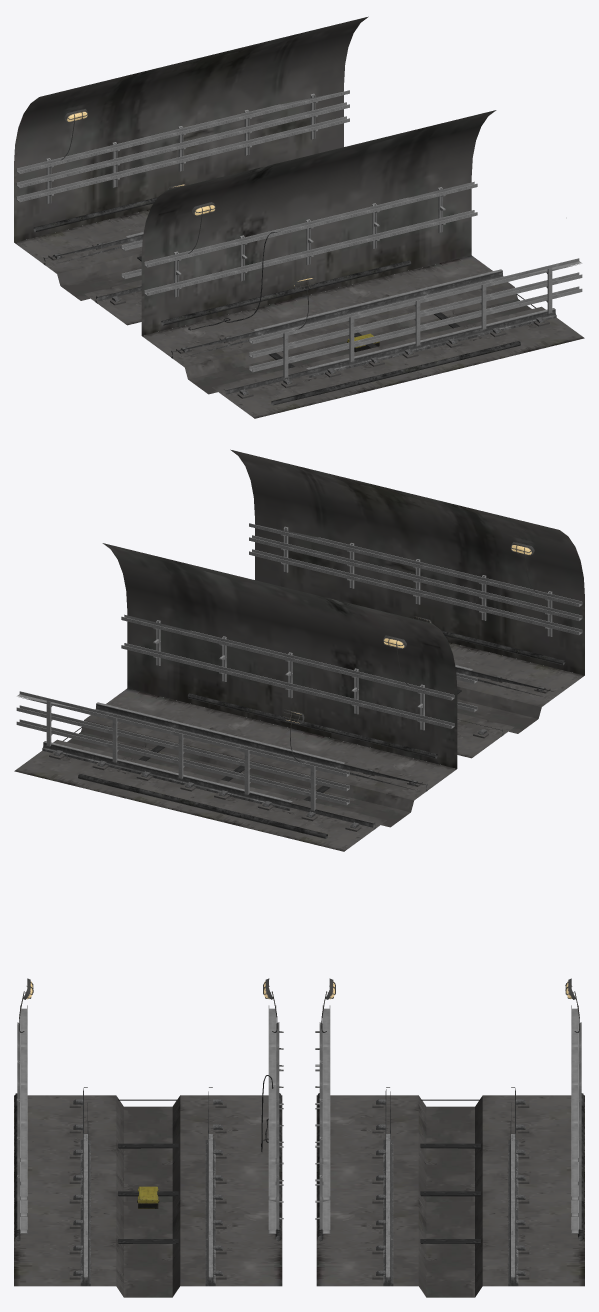
The model's file is tunnel.glb.
3 views of the same model, one above another, from view 1: azimuth 30°, elevation 25°; view 2: azimuth 150°, elevation 25°; view 3: azimuth 270°, elevation 25° (orthographic). The views are drawn at different scales.
Visible parts, largest first — view 1: TunelModular_LP.001_ParedTunel_0.002, SueloViasTunel_LP.002_SueloVias_0.002, PortaCables_LP_SujeccionesCables_0.002, SueloViasTunel_LP.003_SueloVias_0.001, Vias_LP_Vias_0.001, PortaCables_LP.001_SujeccionesCables_0.001, TuberiaViaDetallada_LP.001_TuberiaViaDetallada_0.002, BaseLuzCorta_LP_LuzTunelCorta_0.001, CableLateralViasBarra_LP.001_CableTexturePack_0.002; view 2: TunelModular_LP.001_ParedTunel_0.002, SueloViasTunel_LP.002_SueloVias_0.002, PortaCables_LP_SujeccionesCables_0.002, SueloViasTunel_LP.003_SueloVias_0.001, Vias_LP_Vias_0.001, PortaCables_LP.001_SujeccionesCables_0.001, TuberiaViaDetallada_LP.001_TuberiaViaDetallada_0.002, BaseLuzCorta_LP_LuzTunelCorta_0.001; view 3: SueloViasTunel_LP.003_SueloVias_0.001, SueloViasTunel_LP.002_SueloVias_0.002, Vias_LP_Vias_0.001, PortaCables_LP.001_SujeccionesCables_0.001, PortaCables_LP_SujeccionesCables_0.002, CableLateralViasBarra_LP.001_CableTexturePack_0.002, TuberiaViaDetallada_LP.001_TuberiaViaDetallada_0.002, BaseLuzCorta_LP_LuzTunelCorta_0.001.
Part boxes in pixels (box(x1,y1,x2,y2)): TunelModular_LP.001_ParedTunel_0.002: box(14, 16, 496, 335); SueloViasTunel_LP.002_SueloVias_0.002: box(14, 209, 419, 418); PortaCables_LP_SujeccionesCables_0.002: box(16, 90, 582, 377); SueloViasTunel_LP.003_SueloVias_0.001: box(307, 255, 584, 378); Vias_LP_Vias_0.001: box(43, 232, 556, 398); PortaCables_LP.001_SujeccionesCables_0.001: box(121, 181, 477, 297); TuberiaViaDetallada_LP.001_TuberiaViaDetallada_0.002: box(33, 197, 520, 405); BaseLuzCorta_LP_LuzTunelCorta_0.001: box(60, 109, 315, 330); CableLateralViasBarra_LP.001_CableTexturePack_0.002: box(137, 231, 535, 368); TunelModular_LP.001_ParedTunel_0.002: box(102, 449, 584, 768); SueloViasTunel_LP.002_SueloVias_0.002: box(179, 642, 584, 851); PortaCables_LP_SujeccionesCables_0.002: box(16, 523, 582, 810); SueloViasTunel_LP.003_SueloVias_0.001: box(14, 688, 291, 811); Vias_LP_Vias_0.001: box(42, 665, 555, 831); PortaCables_LP.001_SujeccionesCables_0.001: box(121, 614, 477, 730); TuberiaViaDetallada_LP.001_TuberiaViaDetallada_0.002: box(78, 630, 565, 838); BaseLuzCorta_LP_LuzTunelCorta_0.001: box(256, 486, 538, 763); SueloViasTunel_LP.003_SueloVias_0.001: box(14, 1190, 584, 1297); SueloViasTunel_LP.002_SueloVias_0.002: box(14, 1095, 584, 1201); Vias_LP_Vias_0.001: box(69, 1087, 529, 1286); PortaCables_LP.001_SujeccionesCables_0.001: box(268, 1005, 330, 1233); PortaCables_LP_SujeccionesCables_0.002: box(17, 1005, 581, 1233); CableLateralViasBarra_LP.001_CableTexturePack_0.002: box(118, 1075, 480, 1243); TuberiaViaDetallada_LP.001_TuberiaViaDetallada_0.002: box(15, 1093, 583, 1241); BaseLuzCorta_LP_LuzTunelCorta_0.001: box(19, 978, 579, 1150).
Bounding box in the file's own units: 10 × 5.53 × 12.64.
Materials: 10 (10 with a texture image).
